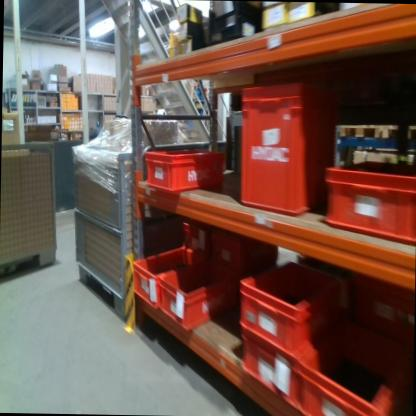small_load_carrier: (239, 89, 337, 219), (299, 318, 408, 416), (238, 264, 347, 357), (327, 165, 415, 247), (157, 255, 239, 332), (236, 332, 300, 411), (133, 243, 202, 311), (144, 147, 224, 194)
stillage: (66, 136, 133, 324), (0, 136, 60, 283)
